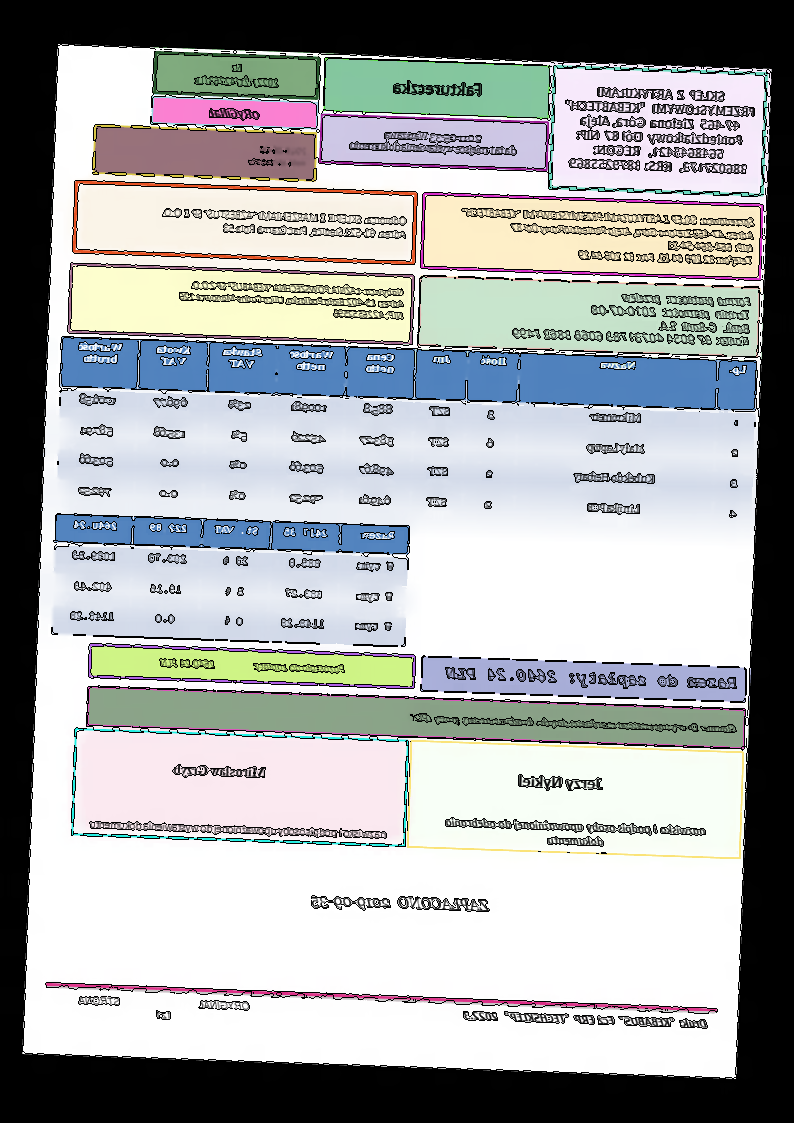Table: (54, 335, 760, 533), (50, 512, 411, 647)
TextBox: (460, 205, 758, 269), (560, 82, 759, 176), (511, 287, 755, 349), (178, 277, 408, 322), (160, 204, 409, 241), (406, 711, 739, 738), (444, 664, 740, 692), (346, 125, 520, 158), (462, 1007, 709, 1030), (76, 994, 253, 1023), (309, 890, 493, 917), (159, 655, 348, 676), (191, 59, 281, 90), (392, 77, 486, 99), (244, 142, 310, 171), (516, 772, 607, 793), (172, 762, 267, 781), (204, 104, 263, 121)
